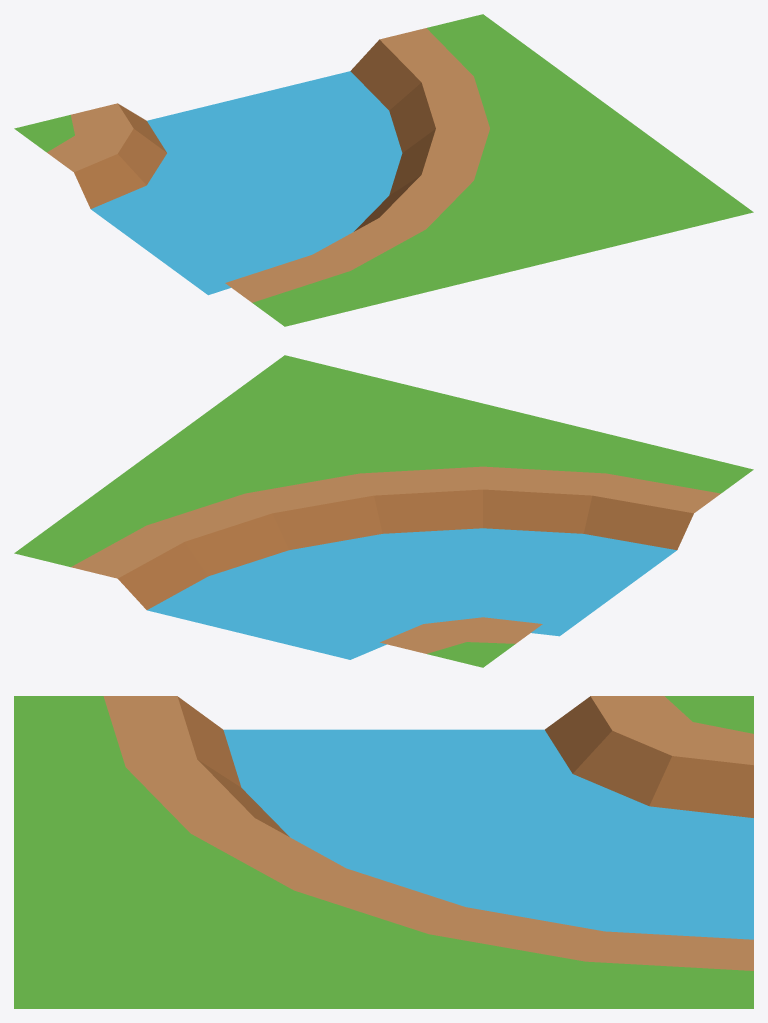
File: river-bend.glb
The picture shows the model from 3 angles, top to bottom: view 1: azimuth 30°, elevation 25°; view 2: azimuth 150°, elevation 25°; view 3: azimuth 270°, elevation 25°; orthographic projection. The views are drawn at different scales.
Parts seen in each view (by area): view 1: ground_riverBend; view 2: ground_riverBend; view 3: ground_riverBend.
Boxes of the visible parts, <box> form: ground_riverBend: <box>14,14,753,326</box>; ground_riverBend: <box>14,355,753,667</box>; ground_riverBend: <box>14,696,753,1008</box>.
Bounding box in the file's own units: 4 × 0.2002 × 4.
